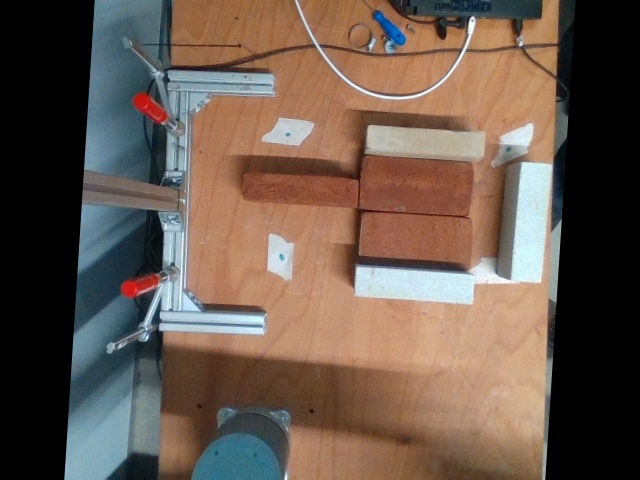brick: (360, 211, 471, 269), (362, 155, 472, 213)
brick-side: (512, 163, 550, 280), (355, 267, 474, 303), (242, 172, 357, 205), (367, 124, 484, 153)
